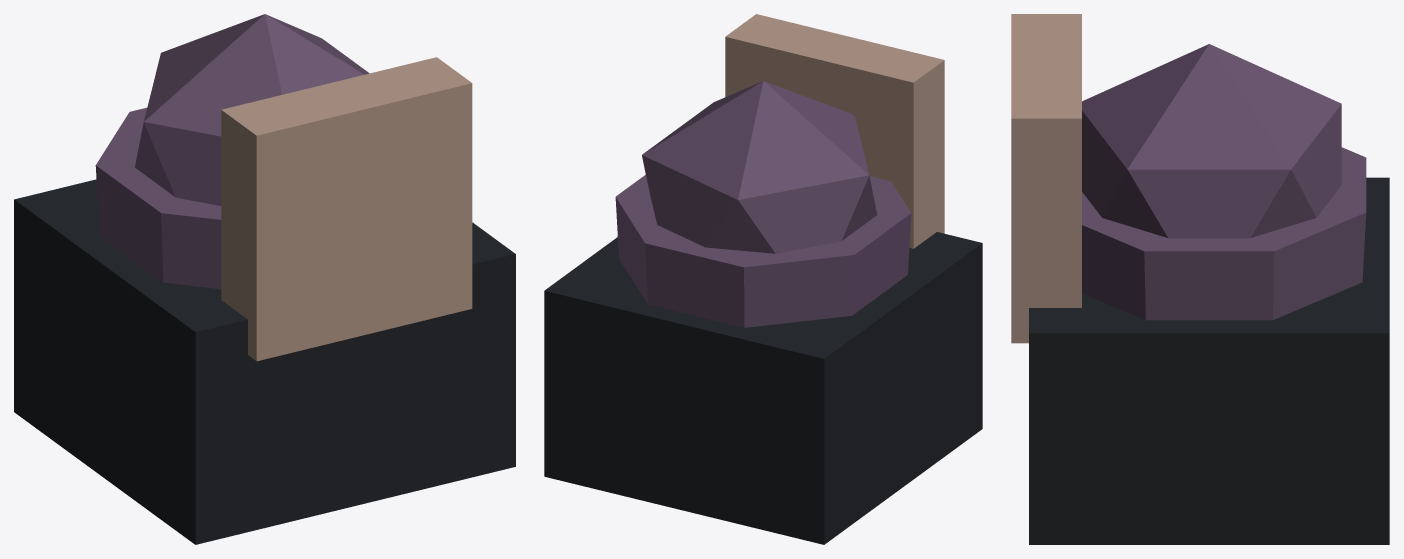
The model's file is inf_v2_brute_lower_leg.fbx.
3 renders of one model, left to right at view 1: azimuth 30°, elevation 25°; view 2: azimuth 150°, elevation 25°; view 3: azimuth 270°, elevation 25°, orthographic. The views are drawn at different scales.
Parts seen in each view (by area): view 1: inf_v2_brute_lower_leg; view 2: inf_v2_brute_lower_leg; view 3: inf_v2_brute_lower_leg.
Boxes of the visible parts, bbox=[...] form: inf_v2_brute_lower_leg: bbox=[14, 14, 515, 544]; inf_v2_brute_lower_leg: bbox=[544, 14, 982, 544]; inf_v2_brute_lower_leg: bbox=[1011, 14, 1389, 544].
Bounding box in the file's own units: 104 × 132 × 107.
